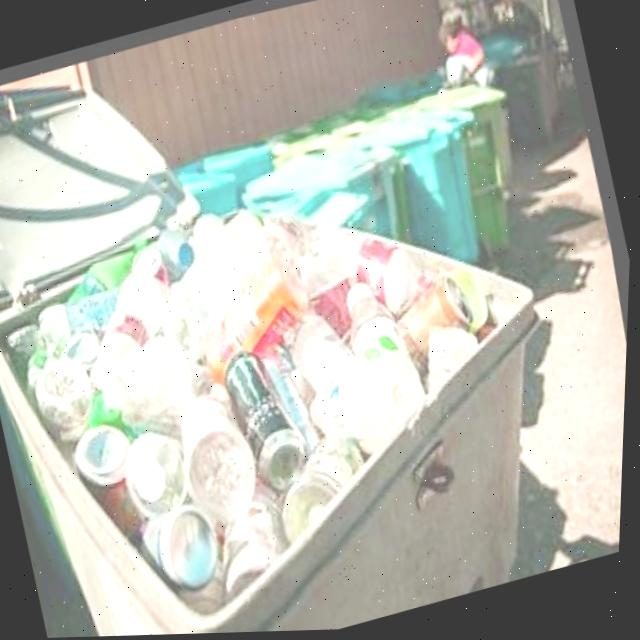Garbage: (8, 208, 497, 608)
Plastic_bottle: (205, 244, 311, 379), (165, 206, 266, 346), (301, 224, 435, 304), (310, 355, 429, 438), (186, 394, 262, 521), (100, 267, 169, 406), (126, 335, 198, 438), (13, 288, 122, 352), (70, 235, 148, 302), (131, 431, 192, 516), (297, 312, 361, 391), (350, 280, 411, 362), (431, 324, 482, 394), (312, 275, 358, 351), (158, 227, 197, 280), (263, 214, 303, 262), (91, 250, 136, 289), (194, 212, 224, 251)
can: (228, 350, 312, 490), (289, 435, 369, 539), (80, 424, 149, 537), (231, 477, 295, 597), (401, 278, 475, 371), (264, 343, 325, 451), (149, 503, 225, 588), (186, 516, 234, 613), (39, 358, 95, 441), (91, 388, 129, 429), (134, 244, 172, 284), (67, 331, 103, 368)
